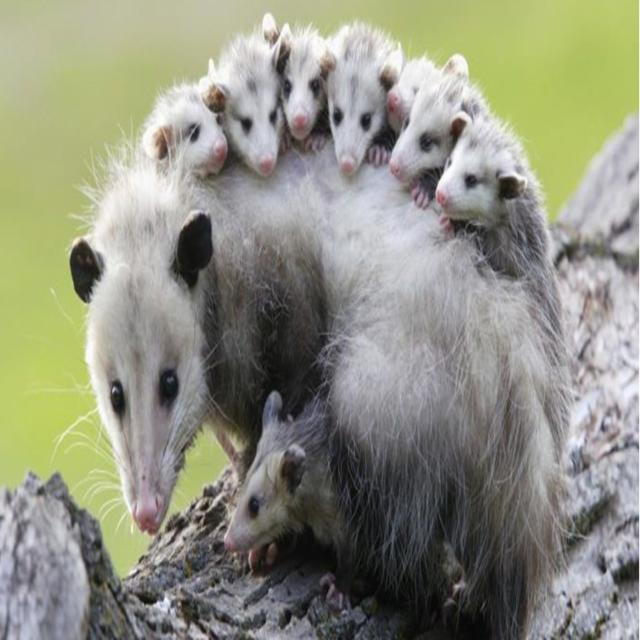Possum: (70, 148, 568, 600), (224, 380, 359, 570), (437, 104, 557, 278), (207, 20, 293, 170), (389, 34, 469, 190), (325, 19, 400, 178), (140, 77, 232, 182), (274, 17, 332, 140)
